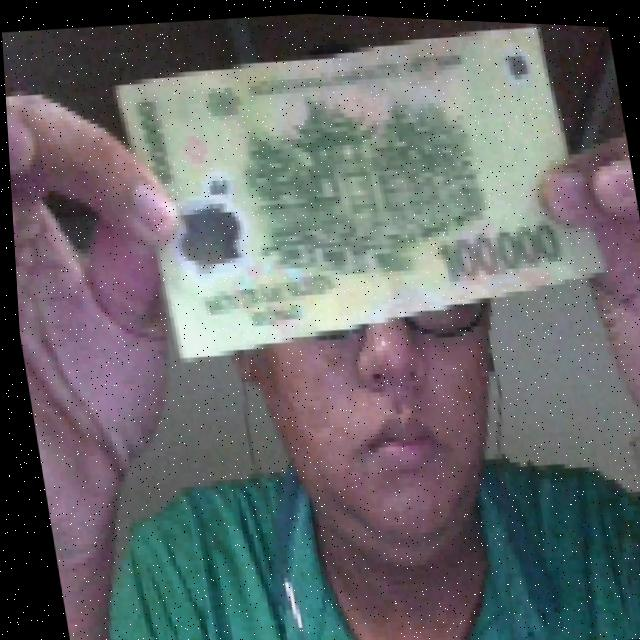100 000 VND: (99, 3, 617, 379)
